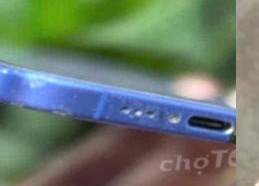scratch: (100, 79, 203, 147), (0, 65, 62, 108), (48, 105, 76, 121), (72, 89, 85, 103)
